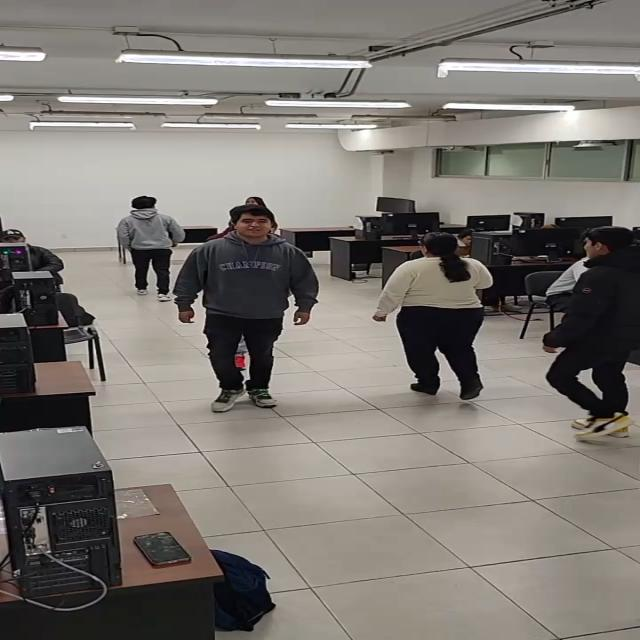Persona: (173, 205, 320, 413), (543, 226, 640, 442), (373, 232, 494, 401), (117, 196, 185, 301), (241, 196, 278, 234)
